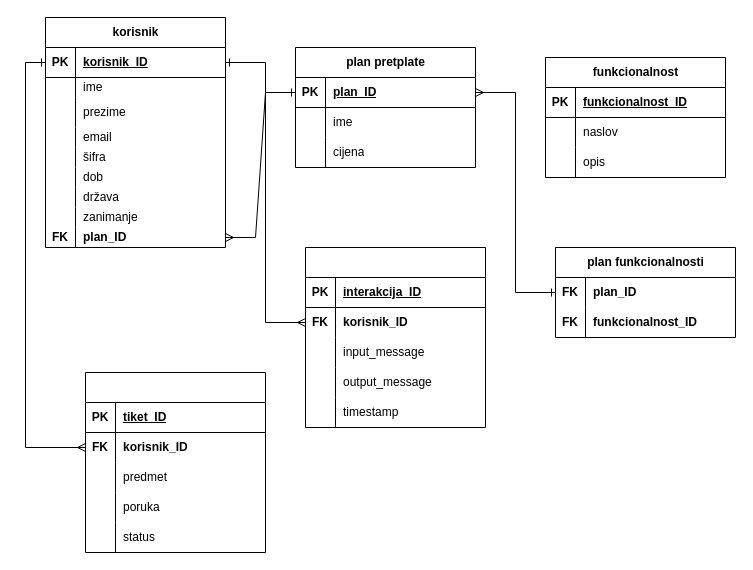
The diagram is 753 pixels wide and 570 high, and some of its shapes have lost their labels. The box of each missing label's shape, as (x1, y1, x2, y2) in pixels:
AI interakcija: (304, 246, 486, 428)
podrška: (84, 372, 266, 552)
